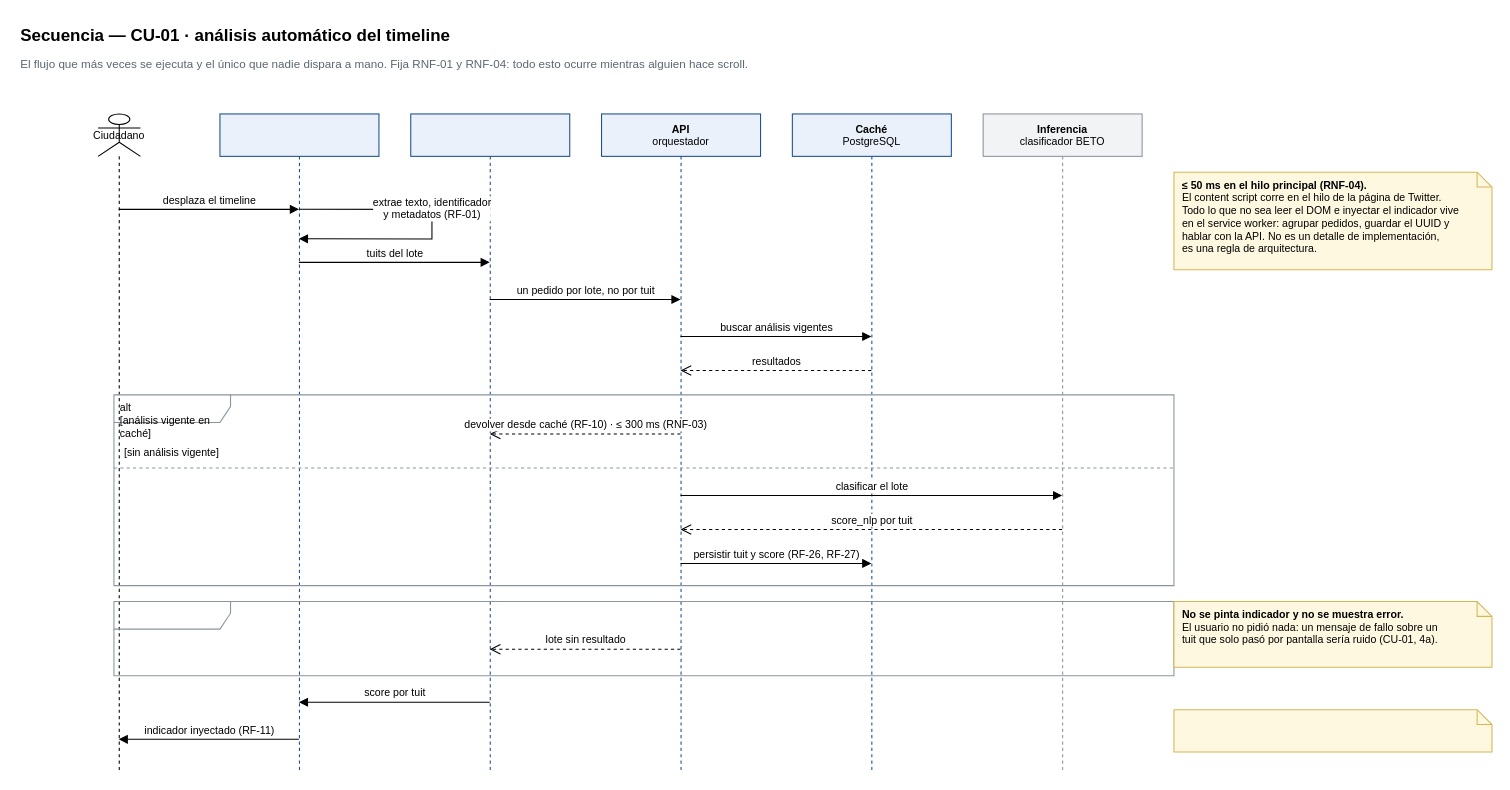
Image size: 1510x790. Some labels were removed from this diagram. The shapes that lost their labels are listed below. From the top down, each one's box as (x1, y1, x2, y2) in pixels, then its label:
(219, 113, 379, 771): Content script extensión
(410, 113, 570, 771): Service worker extensión
(113, 600, 1174, 676): opt [la inferencia no responde]
(1173, 709, 1492, 752): ≤ 2 s p95 desde que el tuit entra en pantalla (RNF-01).
